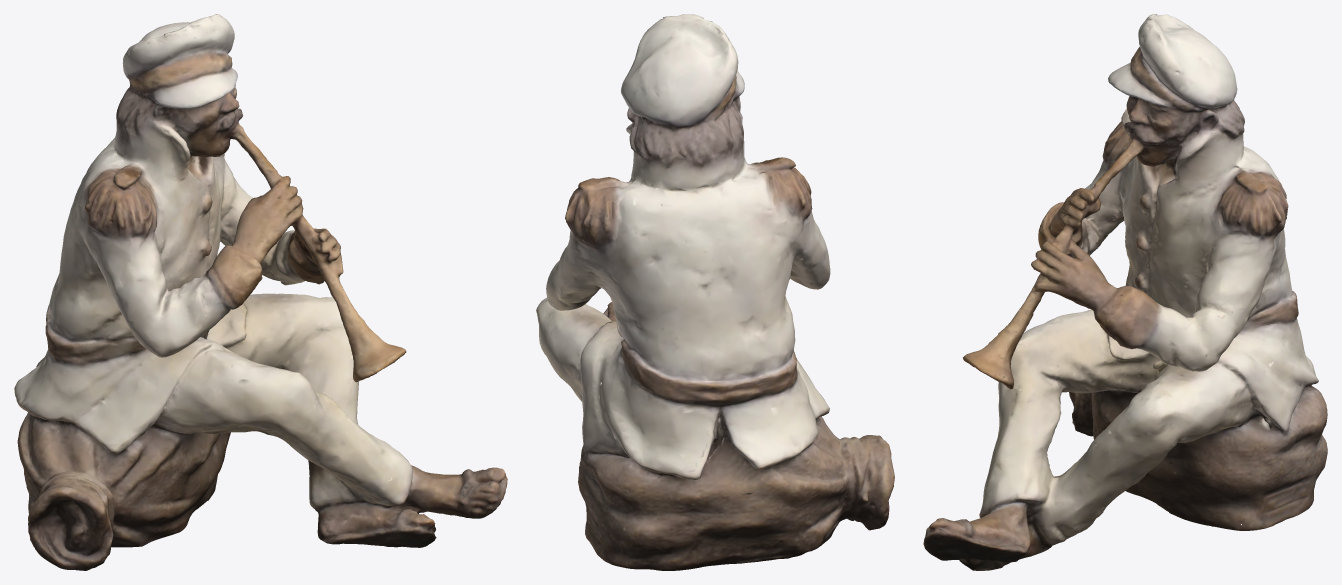
The model's file is khanna-davinder-raj-tutu-walae.glb.
The picture shows the model from 3 angles, left to right: view 1: azimuth 30°, elevation 25°; view 2: azimuth 150°, elevation 25°; view 3: azimuth 270°, elevation 25°; orthographic projection.
Visible parts, largest first — view 1: SculptureE_010; view 2: SculptureE_010; view 3: SculptureE_010.
Boxes of the visible parts, x1,y1,x2,y2 form: SculptureE_010: [14, 14, 507, 570]; SculptureE_010: [536, 14, 894, 570]; SculptureE_010: [923, 14, 1327, 570].
Size of the model in its own units: 0.4062 by 0.5 by 0.3795.
1 material, 1 textured.
